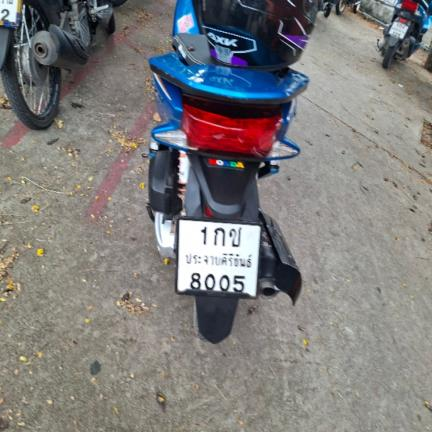0: (218, 272, 230, 291), (203, 272, 215, 290)
1: (199, 223, 208, 247)
5: (233, 273, 245, 293)
8: (190, 272, 201, 290)
A01: (212, 225, 226, 247)
A10: (229, 225, 243, 248)
PKN: (183, 248, 253, 269)
